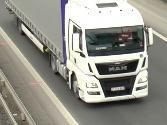truck: (0, 1, 149, 105)
